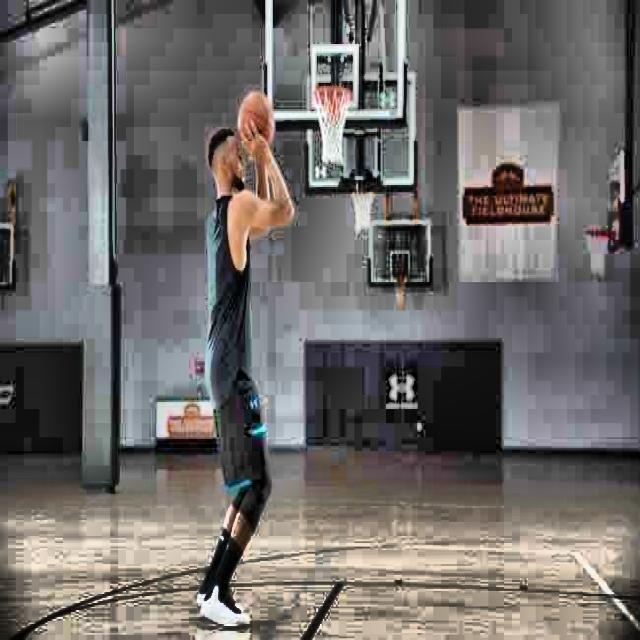rim: (313, 83, 351, 164)
